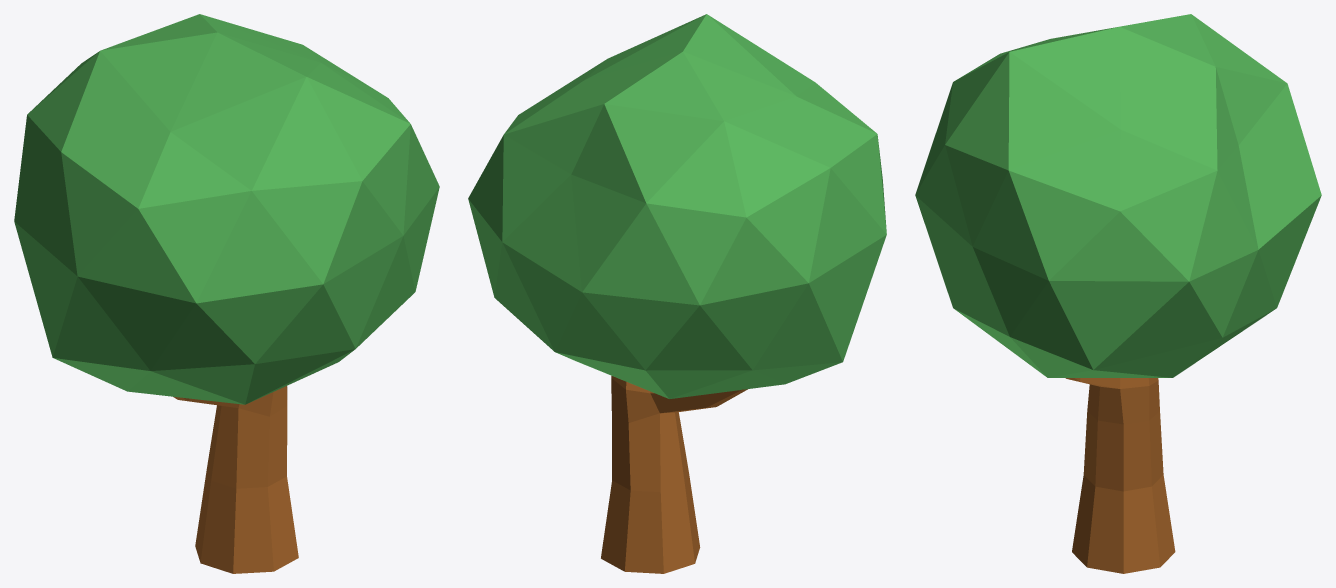
The model's file is Tree2, Tall_Fat2.fbx.
3 views of the same model, side by side, from view 1: azimuth 30°, elevation 25°; view 2: azimuth 150°, elevation 25°; view 3: azimuth 270°, elevation 25° (orthographic). The views are drawn at different scales.
Visible parts, largest first — view 1: Tree2; view 2: Tree2; view 3: Tree2.
Part boxes in pixels (<box>): Tree2: <box>14,14,439,573</box>; Tree2: <box>468,14,886,573</box>; Tree2: <box>915,14,1321,573</box>.
Bounding box in the file's own units: 381 × 528 × 381.
